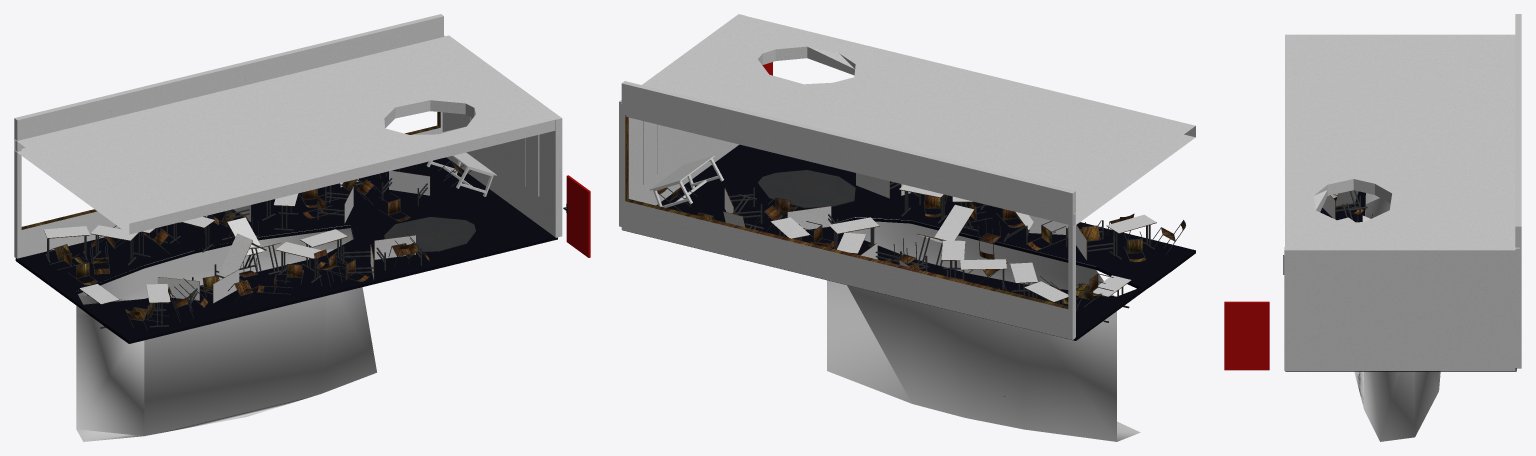
The model's file is salle_classe_bas03.obj.
3 renders of one model, left to right at view 1: azimuth 30°, elevation 25°; view 2: azimuth 150°, elevation 25°; view 3: azimuth 270°, elevation 25°, orthographic. The views are drawn at different scales.
Parts seen in each view (by area): view 1: plafond_couloir_classe_bas; view 2: plafond_couloir_classe_bas; view 3: plafond_couloir_classe_bas.
Boxes of the visible parts, left/top/right/bottom form: plafond_couloir_classe_bas: left=14, top=14, right=590, bottom=441; plafond_couloir_classe_bas: left=619, top=14, right=1195, bottom=441; plafond_couloir_classe_bas: left=1224, top=14, right=1521, bottom=441.
Bounding box in the file's own units: 33.44 × 20.35 × 19.46.
